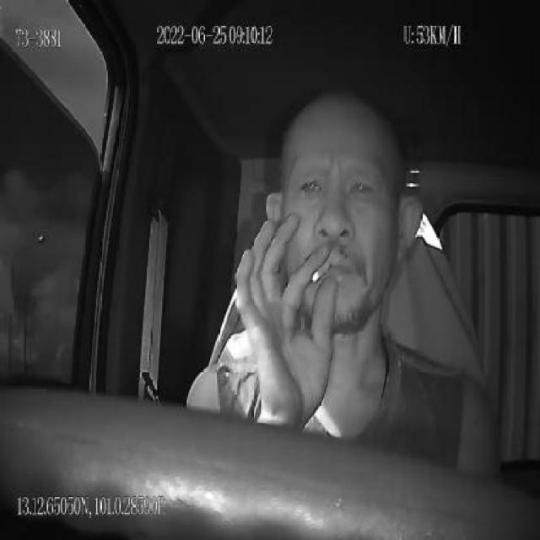smoking: (312, 262, 333, 283)
